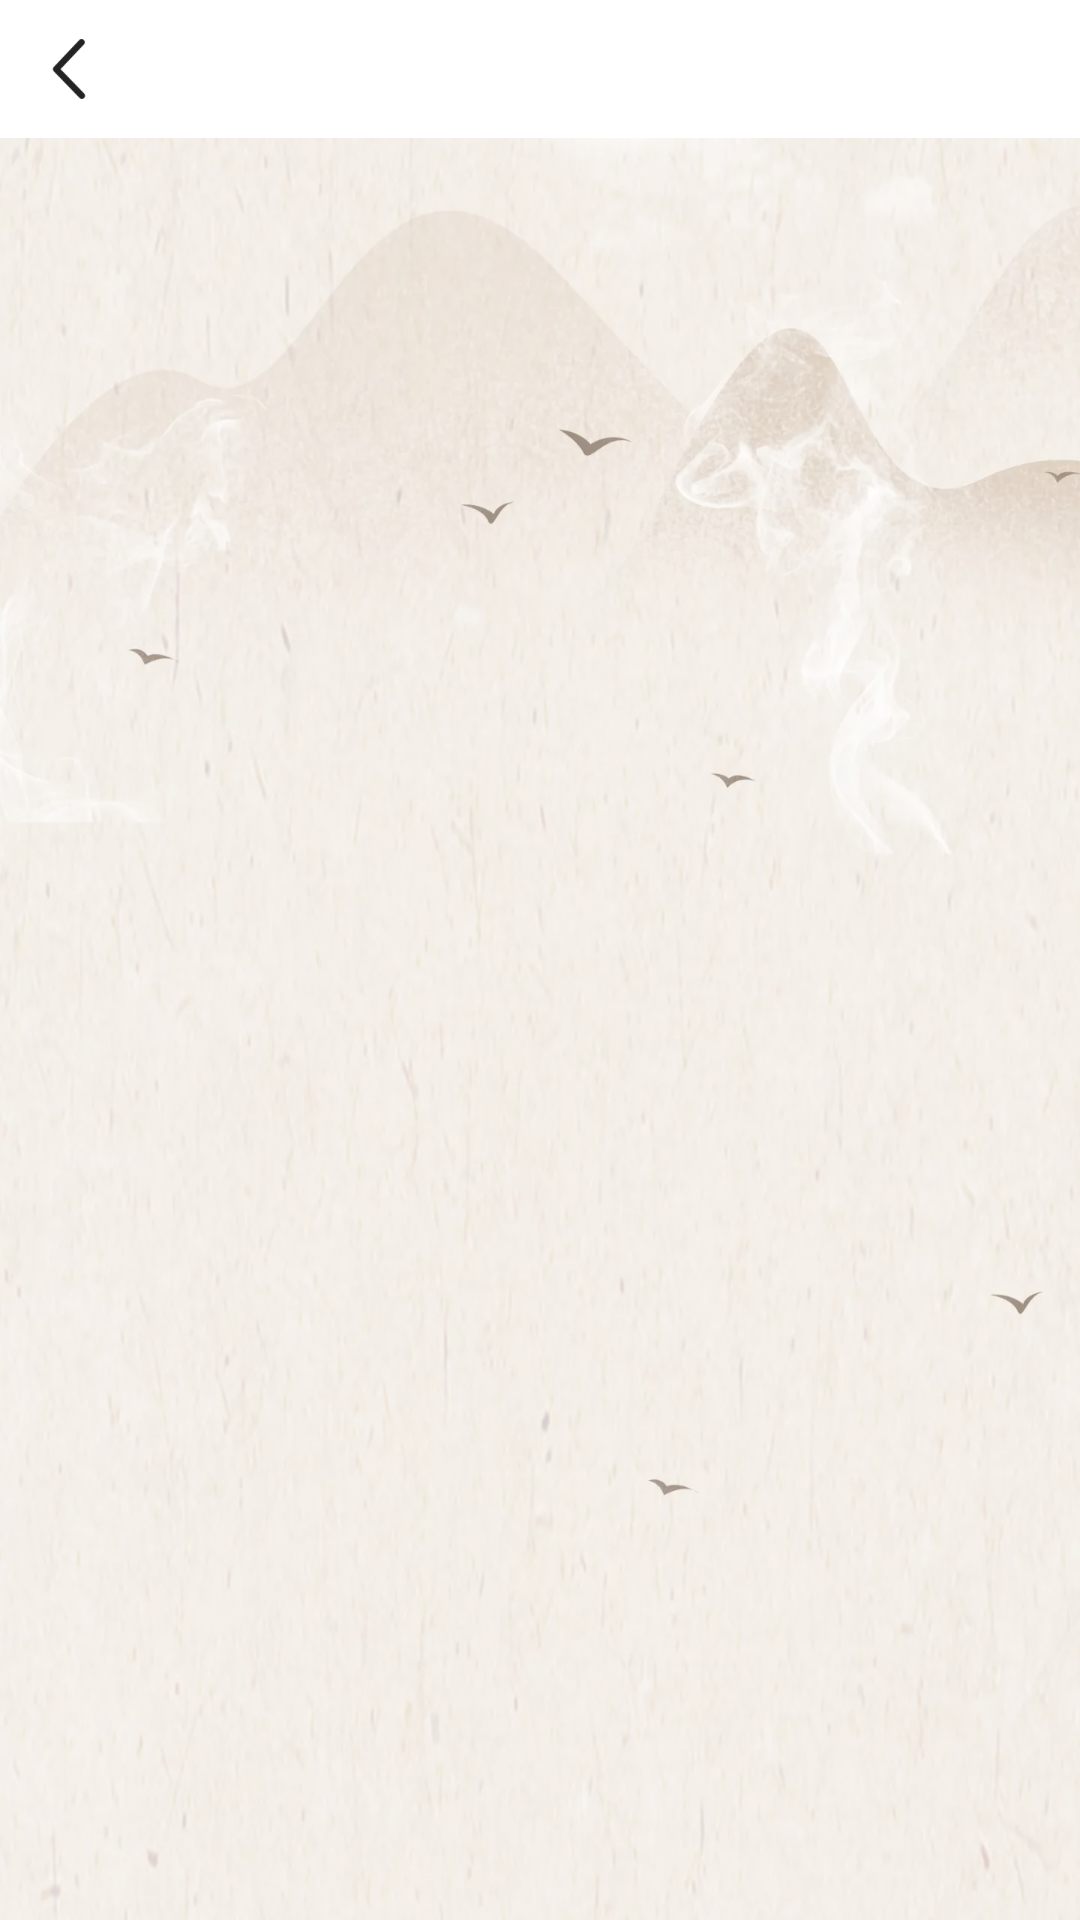

Screen size 1080x1920. Icon name, then its center in pixels as [x,y]:
arrow left: [69,69]
